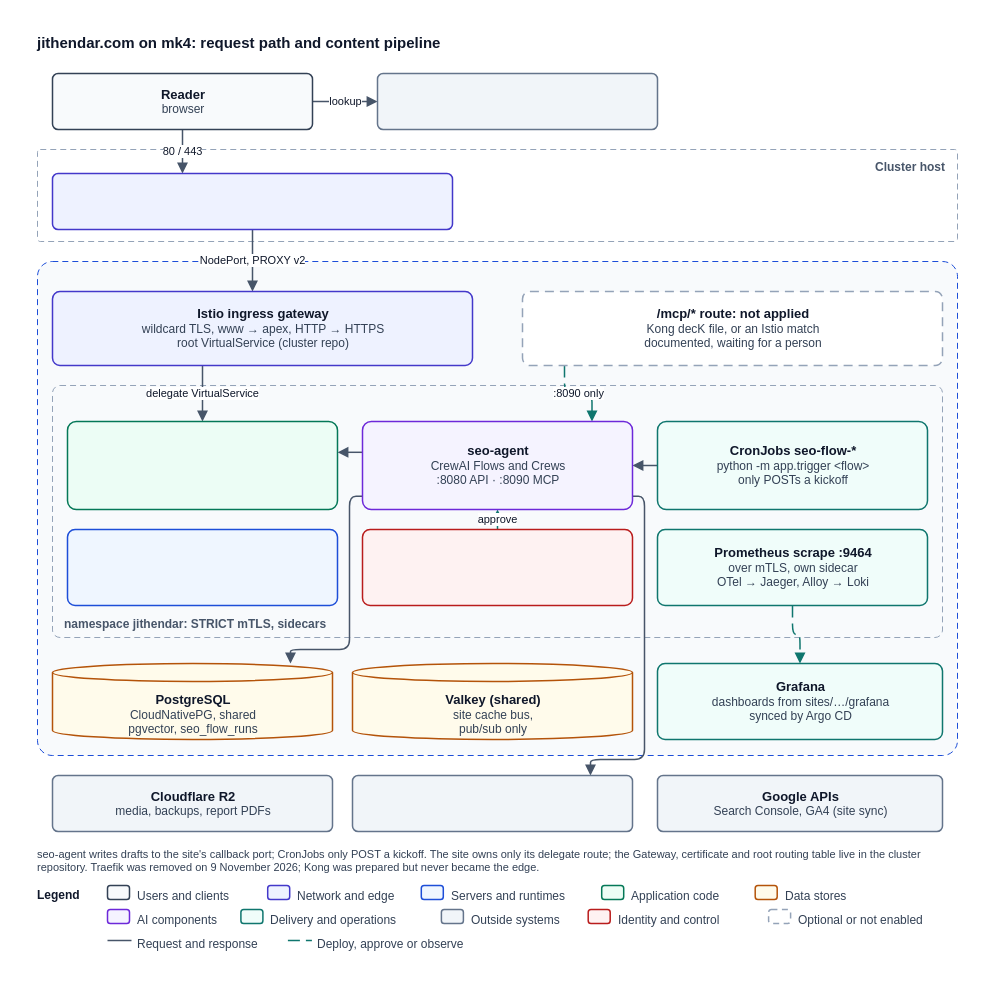
This 994x982 diagram has some shape labels left out. Each missing label, with the box of its shape:
/admin/review (in the site) a person approves: the only publish trigger: (361, 528, 633, 606)
Anthropic API every call budget-guarded: (351, 774, 633, 832)
Cloudflare DNS DNS only, no proxying: (376, 72, 658, 130)
HAProxy :80 / :443 TCP only, adds PROXY protocol v2: (51, 172, 453, 230)
jithendar-com ×2 Next.js, delegate route callback API on :9465: (66, 420, 338, 510)
minikube cluster mk4: (36, 260, 958, 756)
practice-executor gVisor sandboxes, no network: (66, 528, 338, 606)
